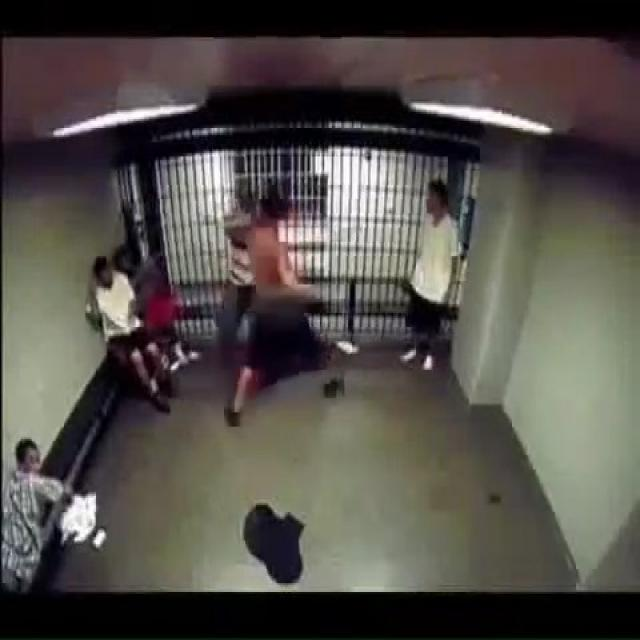fight: (200, 162, 357, 416)
